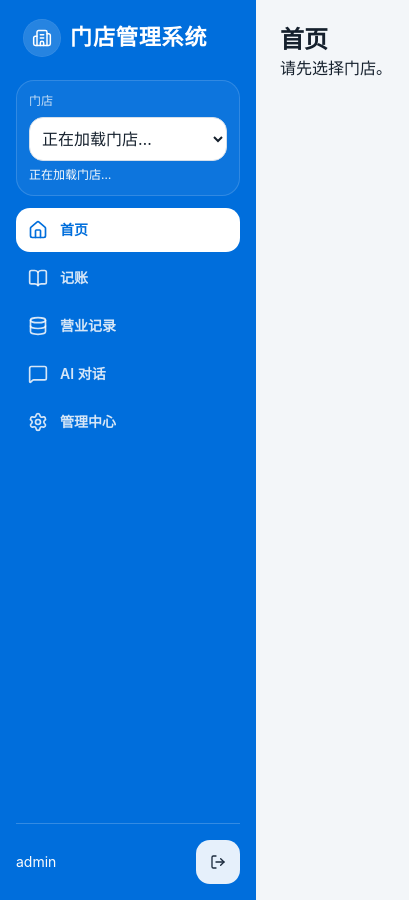
Test: authenticated application shell › keeps the session and shows a retryable error when logout fails
Click the button named "退出登录".
click(218, 862)  # box [196,840,240,884]
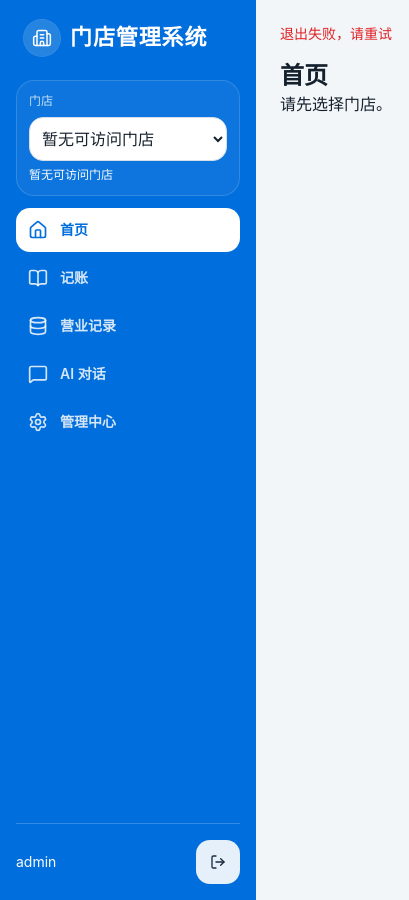
expect the heading "首页" is shown: met, box [280,61,328,90]
expect the message "退出失败，请重试" is shown: met, box [280,25,392,42]
